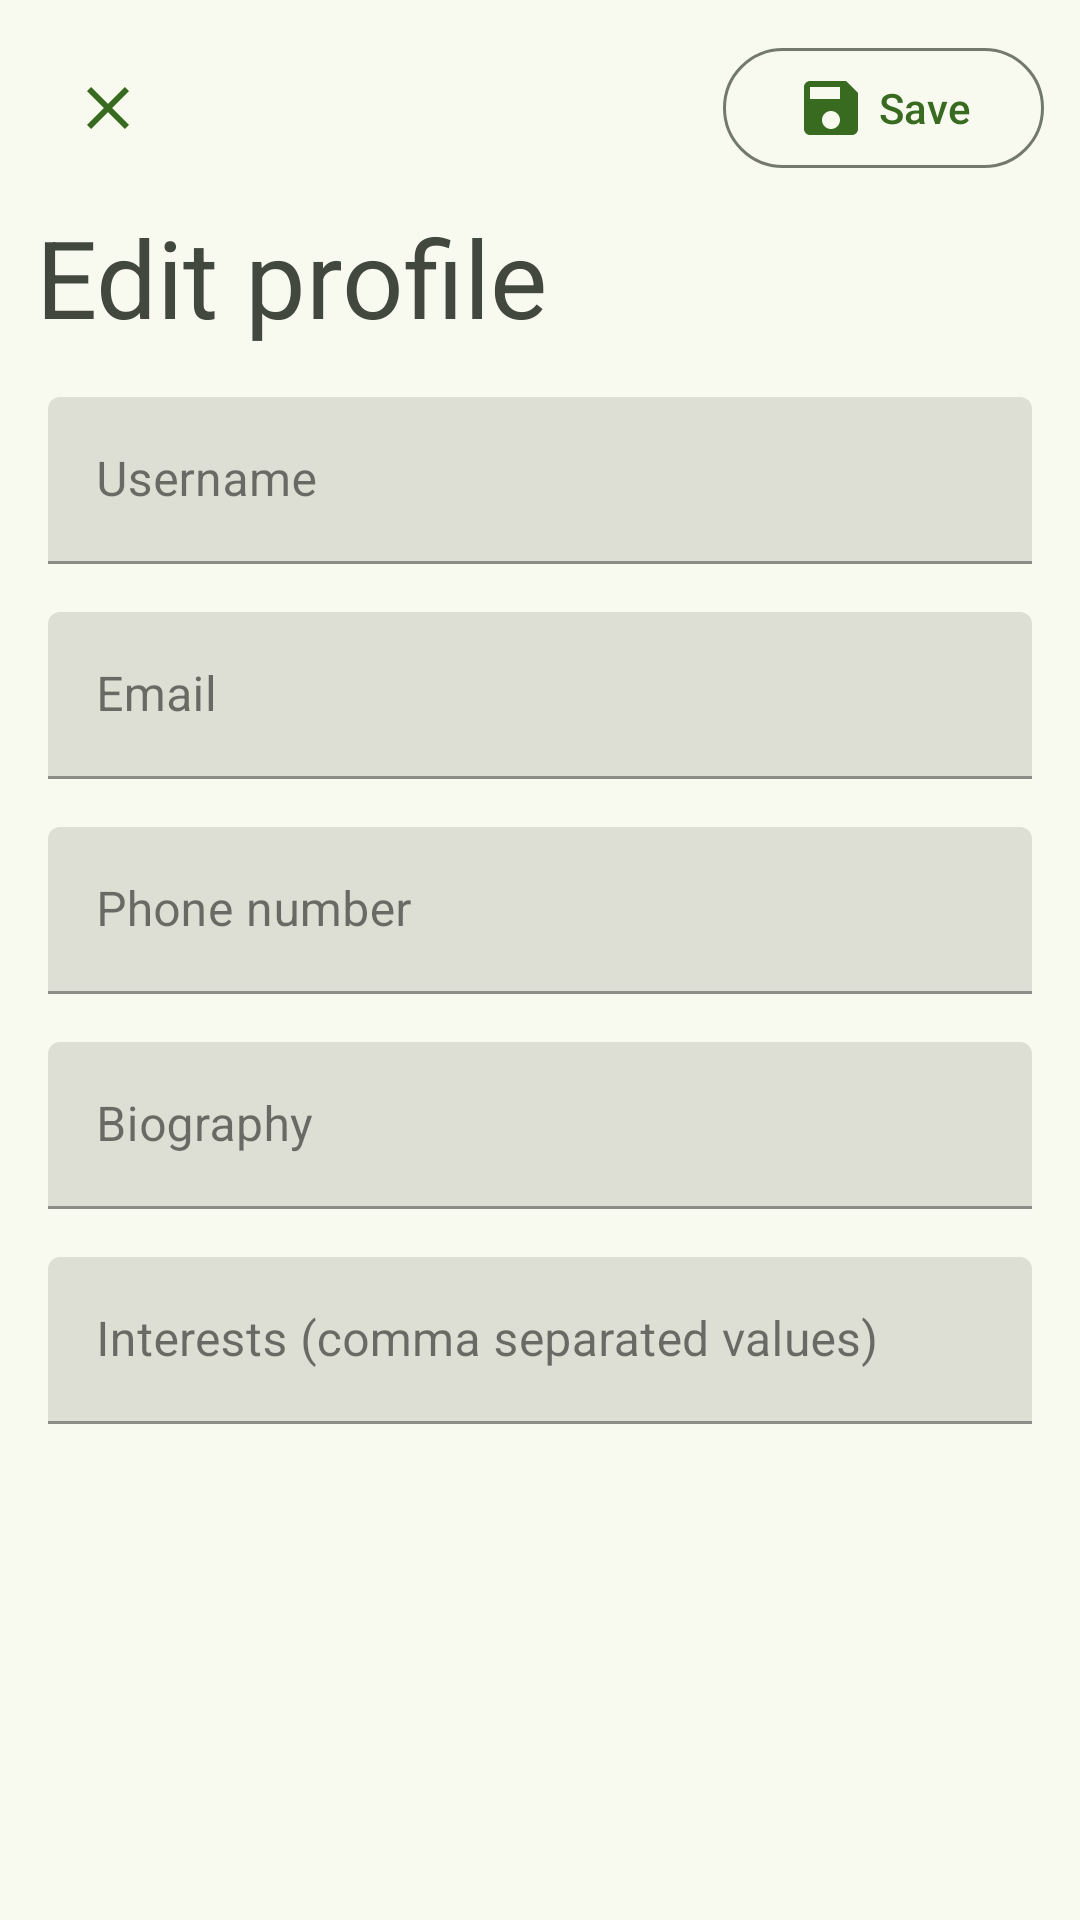

Where icons sit on this 1080w x 1920h app screen, as (x1, y1, x2, y2):
clear: (87, 87, 129, 129)
